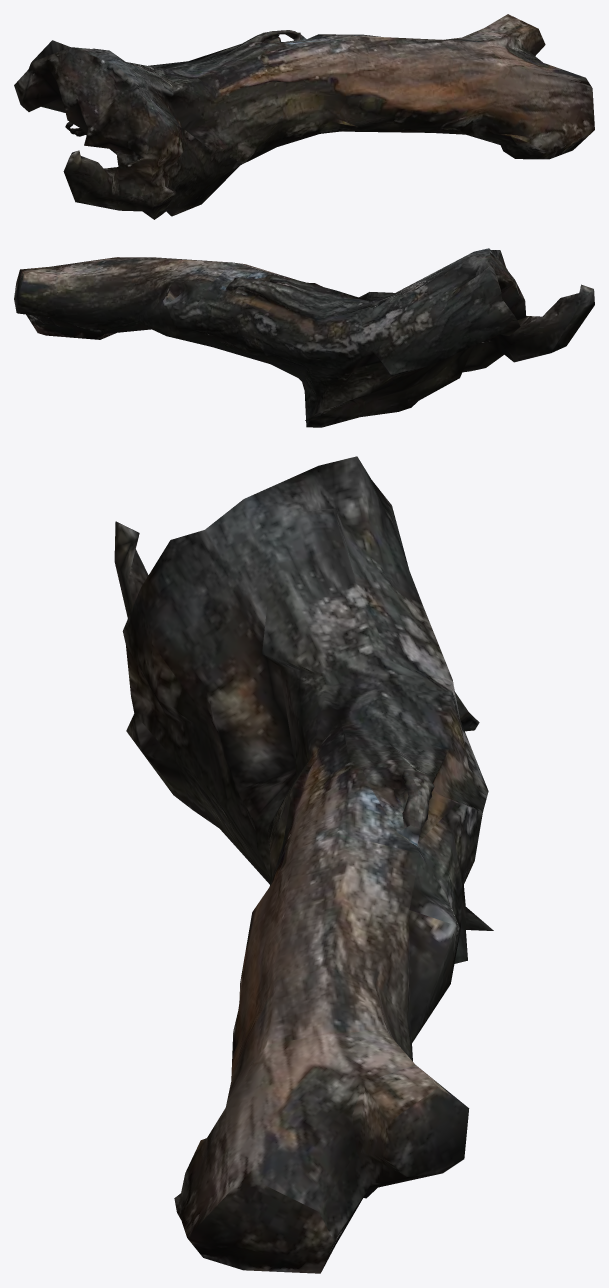
Rendered from mossy-log.lod0.glb.
3 renders of one model, top to bottom at view 1: azimuth 30°, elevation 25°; view 2: azimuth 150°, elevation 25°; view 3: azimuth 270°, elevation 25°, orthographic. The views are drawn at different scales.
Parts seen in each view (by area): view 1: Object_5; view 2: Object_5; view 3: Object_5.
Boxes of the visible parts, bbox=[...] form: Object_5: bbox=[14, 14, 594, 219]; Object_5: bbox=[14, 248, 594, 427]; Object_5: bbox=[114, 456, 493, 1273].
Size of the model in its own units: 4.17 by 1.41 by 1.32.
Materials: 1 (1 with a texture image).
